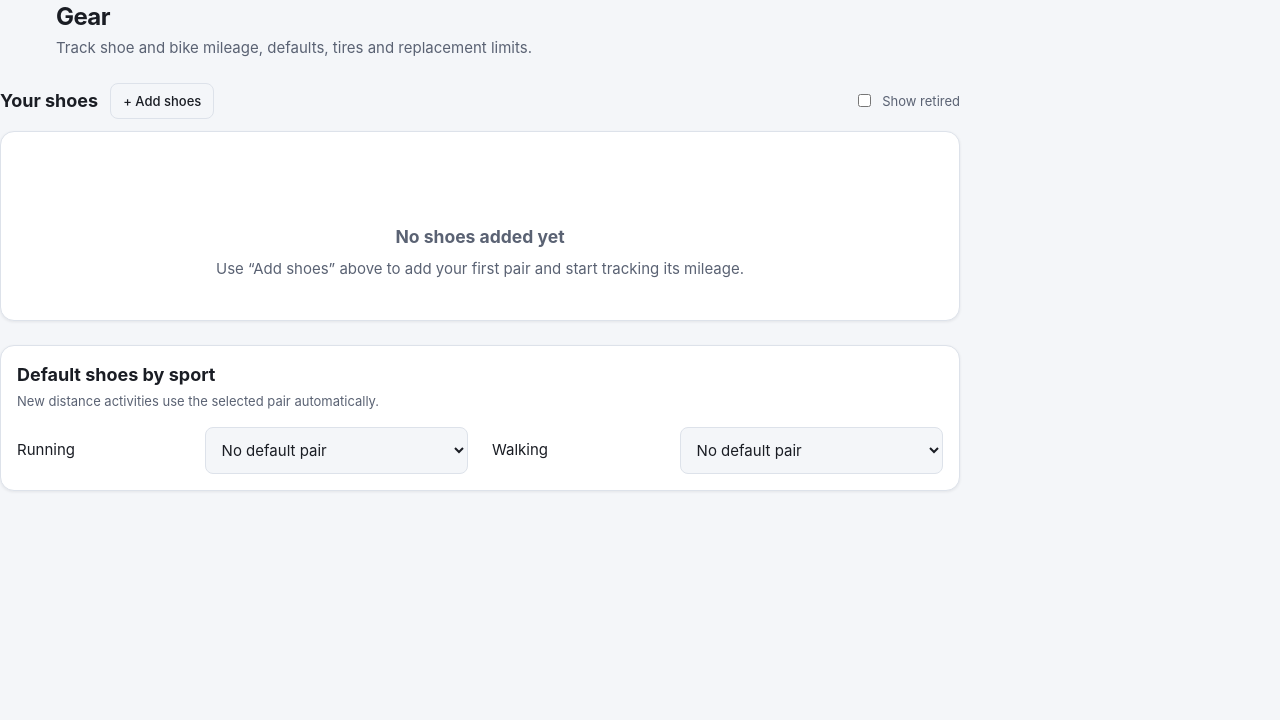
GearPage › keeps the add form in a popup that opens on request and closes again
The image size is (1280, 720).
Check: the field labelled "Brand" is not shown
Step 1. Click the button "+ Add shoes" → click(162, 101), box [110,82,214,119]
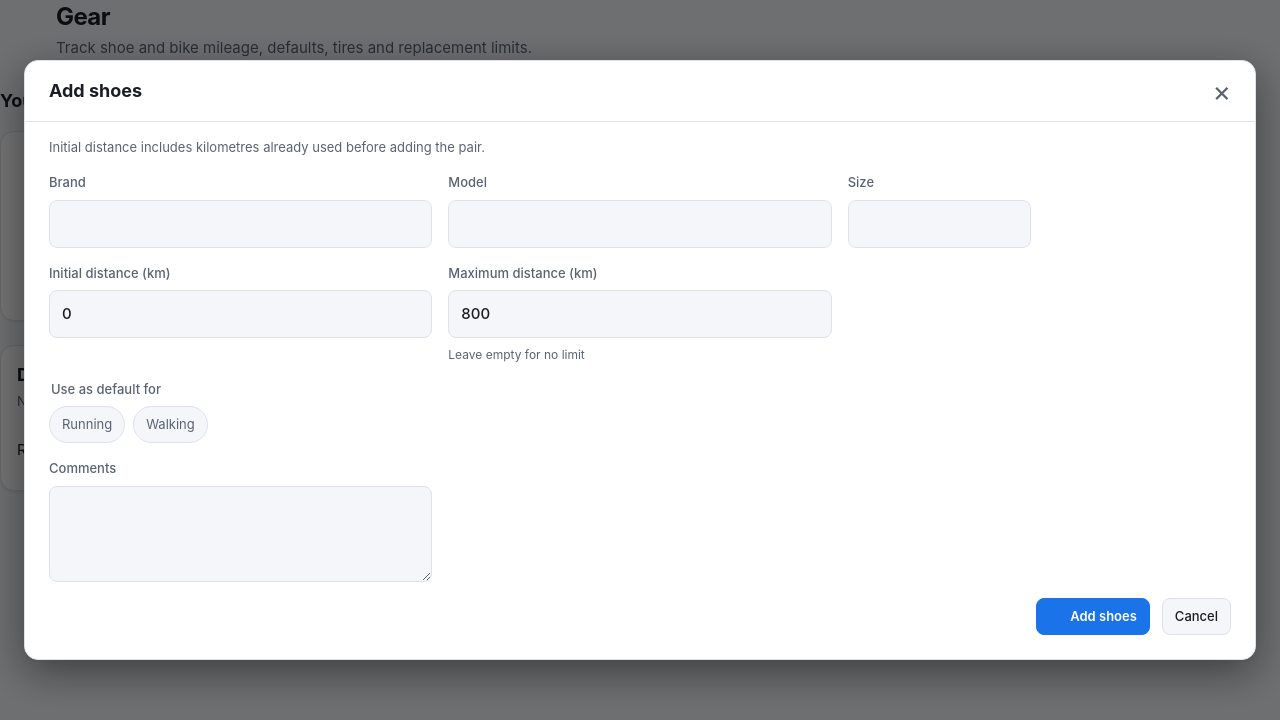
Check: the field labelled "Brand" is shown, box [49,200,432,248]
Check: the dialog "Add shoes" is shown
Step 2. Click the button "Cancel" → click(1196, 616), box [1162,598,1231,635]
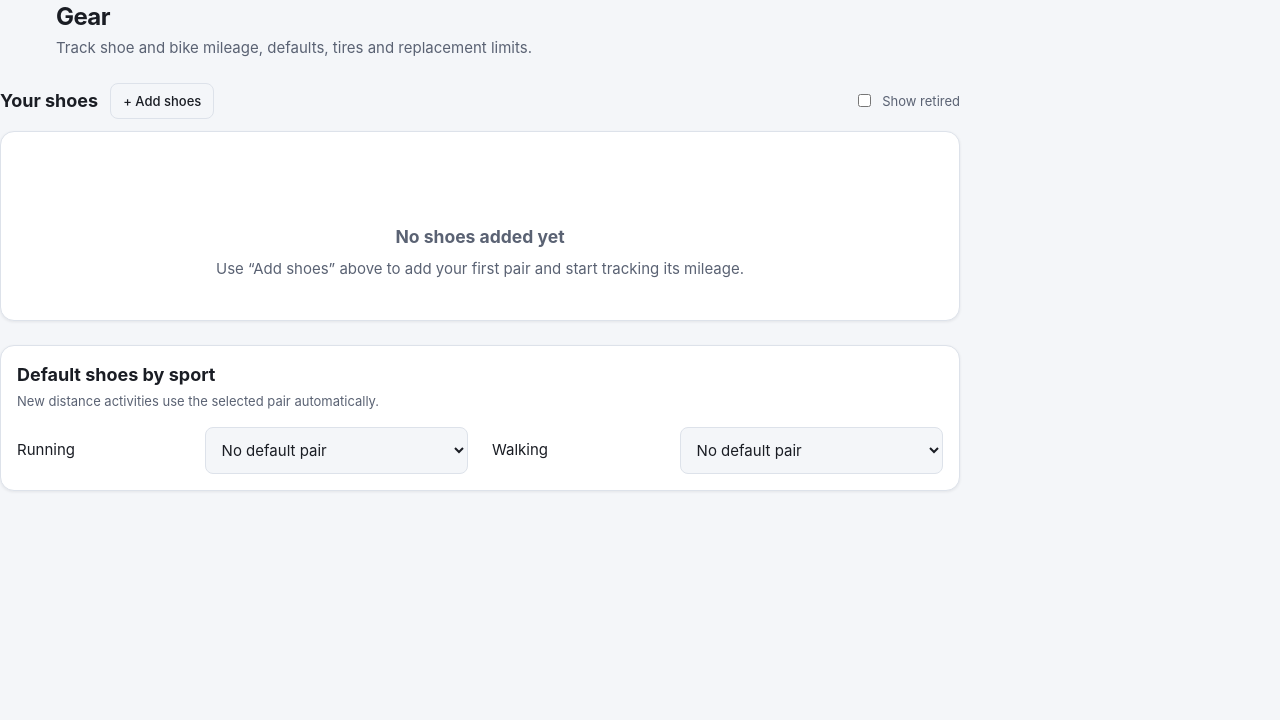
Check: the label labelled "Brand" is gone
Check: the dialog is gone
Step 3. Click the button "+ Add shoes" → click(162, 101), box [110,82,214,119]
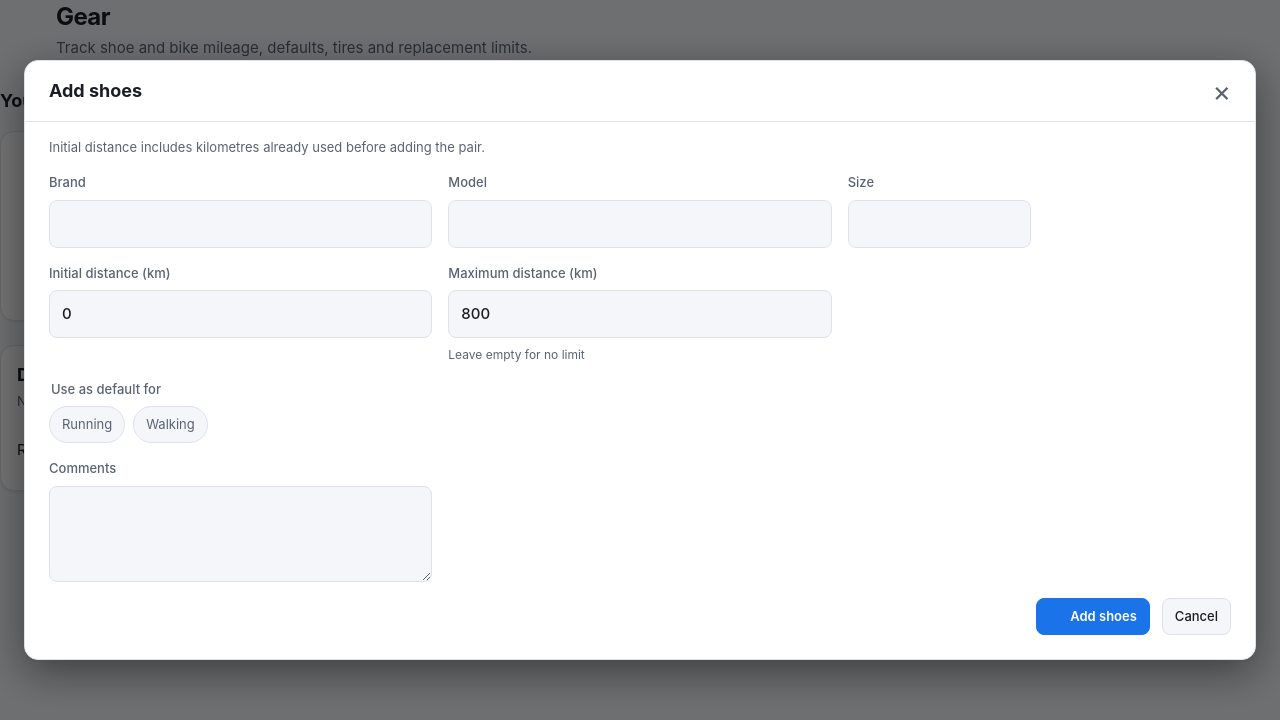
Step 4. Press Escape
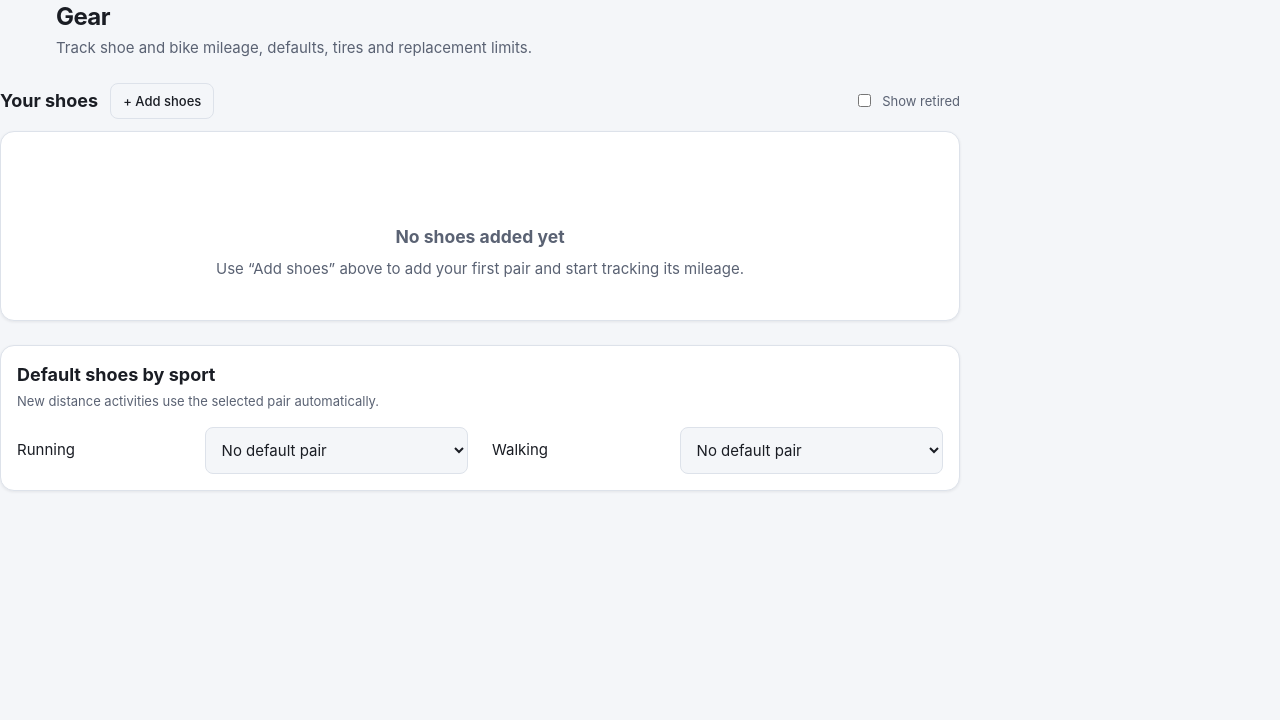
Check: the dialog is gone
